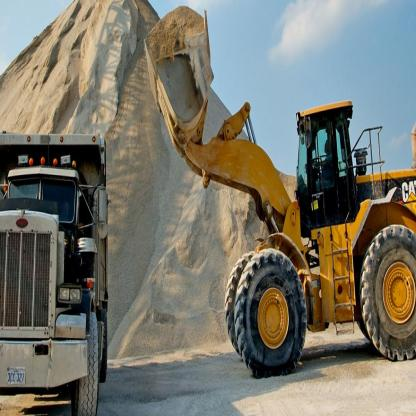bull_dozer/loader/grader: (139, 7, 416, 382)
